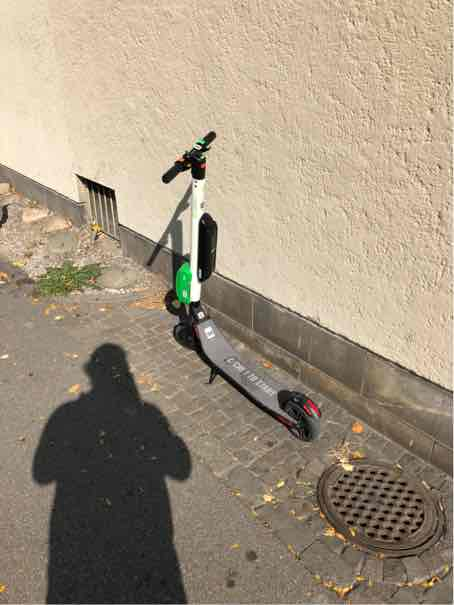scooter: (152, 119, 328, 441)
